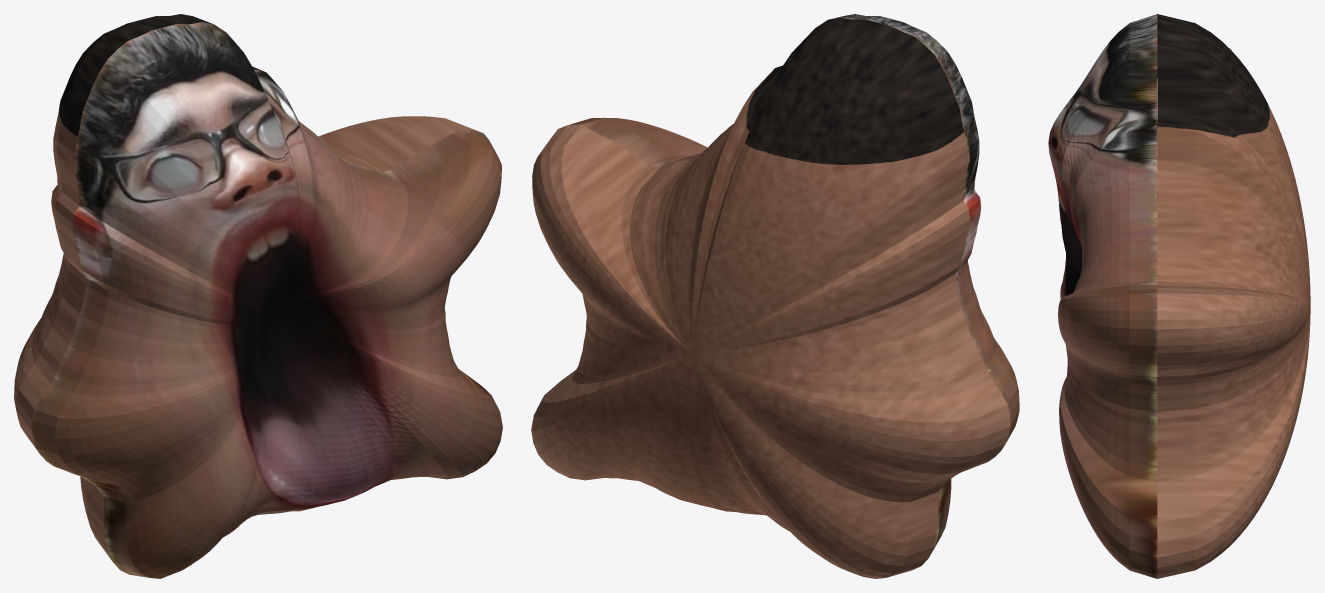
File: kogobon.glb
3 views of the same model, side by side, from view 1: azimuth 30°, elevation 25°; view 2: azimuth 150°, elevation 25°; view 3: azimuth 270°, elevation 25° (orthographic). The views are drawn at different scales.
Parts seen in each view (by area): view 1: elastic_body; view 2: elastic_body; view 3: elastic_body.
Boxes of the visible parts, left/top/right/bottom form: elastic_body: left=14, top=14, right=502, bottom=578; elastic_body: left=531, top=14, right=1019, bottom=578; elastic_body: left=1048, top=14, right=1310, bottom=578.
Size of the model in its own units: 2.49 by 2.8 by 1.45.
1 material, 1 textured.
